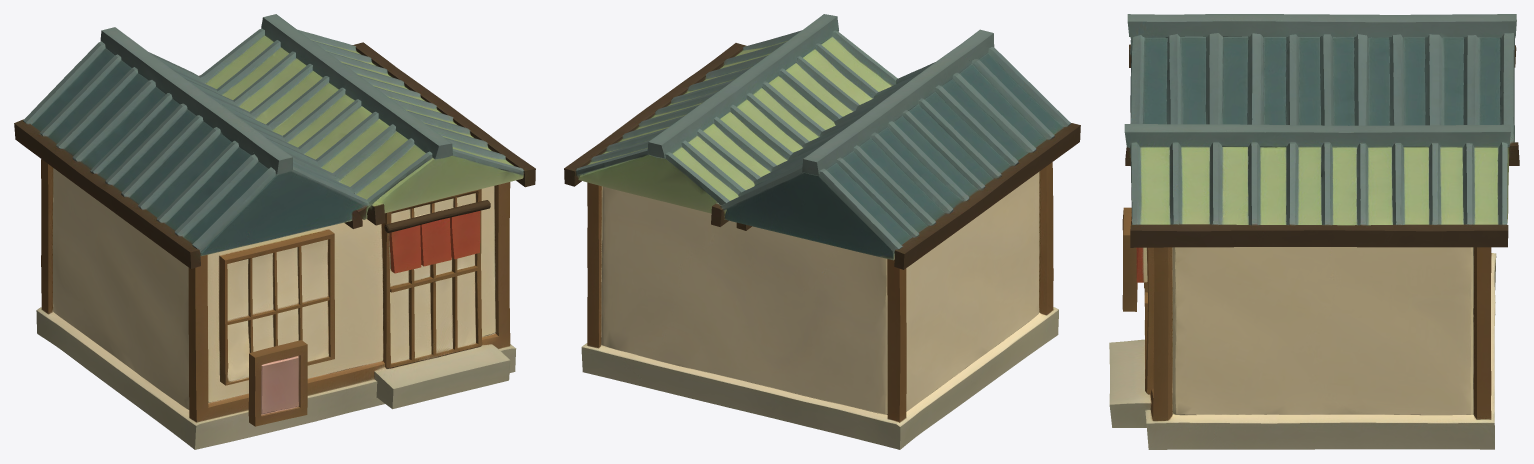
3 renders of one model, left to right at view 1: azimuth 30°, elevation 25°; view 2: azimuth 150°, elevation 25°; view 3: azimuth 270°, elevation 25°, orthographic. The views are drawn at different scales.
Visible parts, largest first — view 1: model; view 2: model; view 3: model.
Boxes of the visible parts, bbox=[...] form: model: bbox=[14, 14, 535, 449]; model: bbox=[564, 14, 1080, 449]; model: bbox=[1109, 14, 1519, 449].
Bounding box in the file's own units: 1.9 × 1.46 × 1.78.
1 material, 1 textured.
